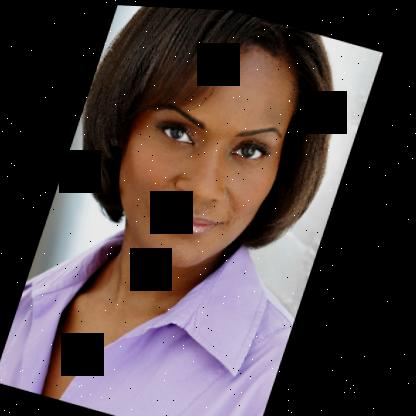Female: (94, 17, 316, 284)
